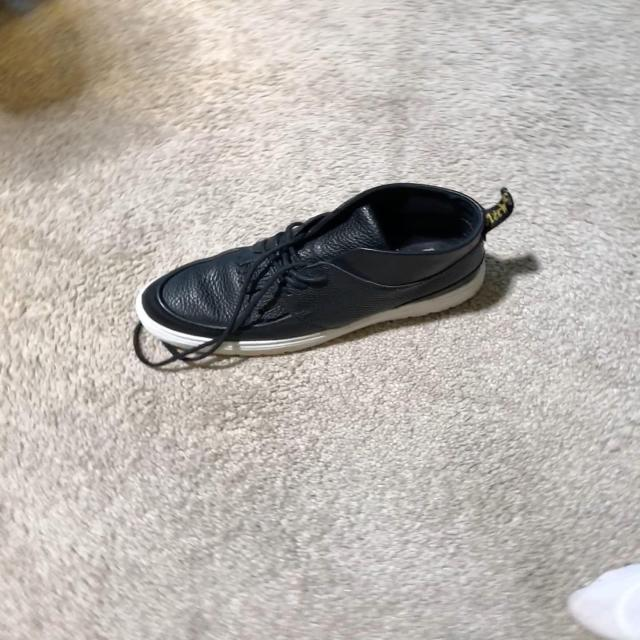shoe: (139, 183, 494, 352)
